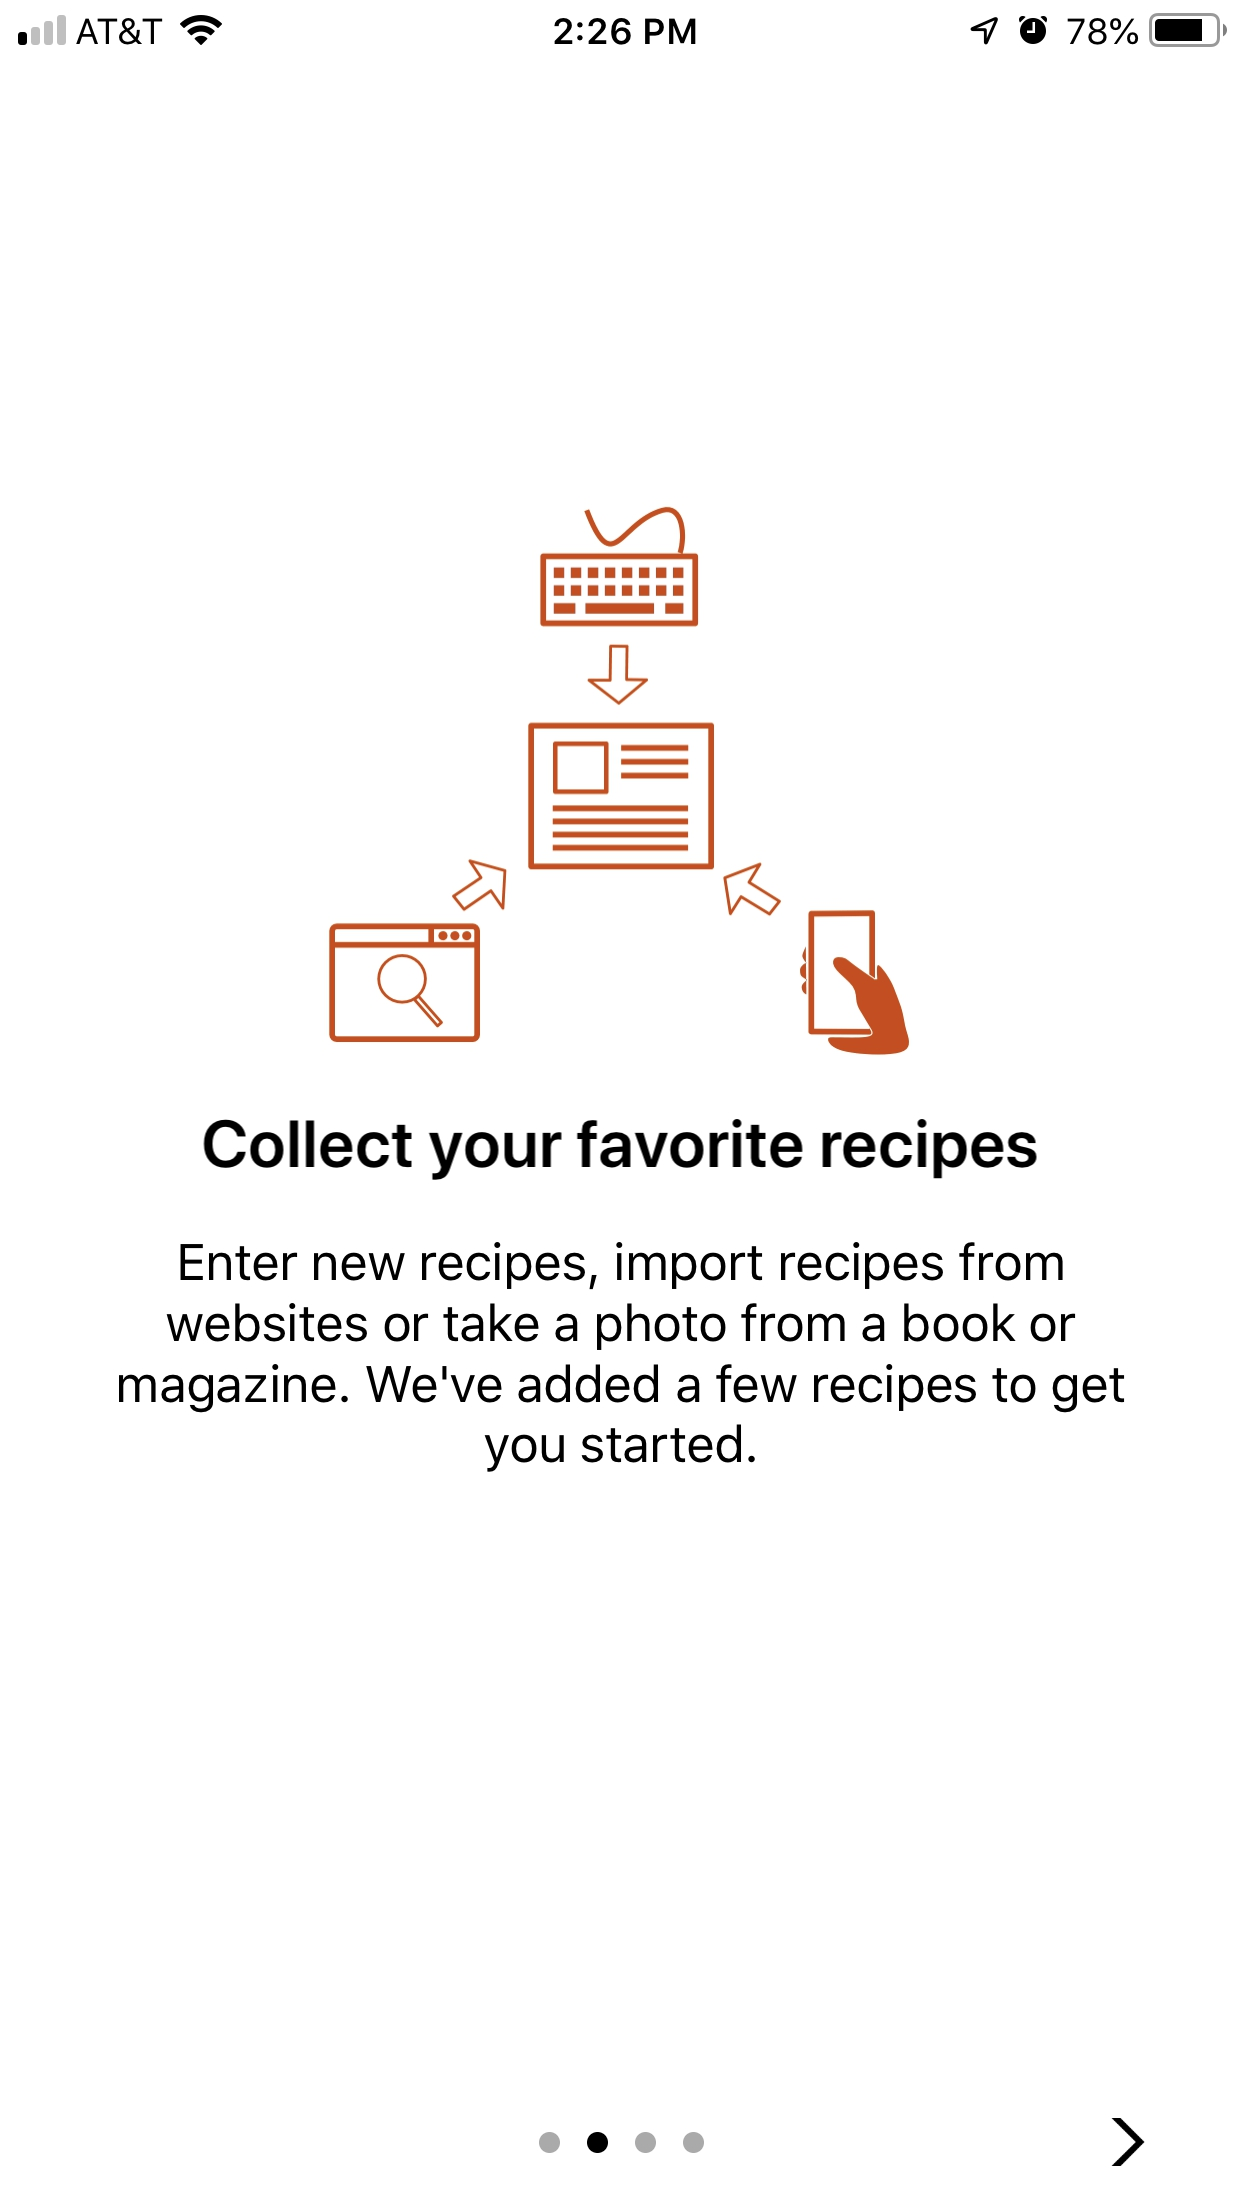Icon: (1112, 2117, 1145, 2167)
Image: (328, 505, 911, 1055)
PageIndicator: (538, 2131, 707, 2153)
Text: (118, 1240, 1127, 1474), (203, 1118, 1037, 1181)
UpperTaskBar: (2, 2, 1242, 49)
